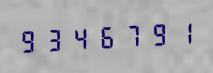four: (67, 22, 91, 53)
nine: (17, 24, 41, 56), (142, 18, 166, 49)
one: (167, 16, 191, 48)
seven: (117, 19, 141, 51)
six: (92, 20, 116, 52)
three: (42, 23, 66, 55)
